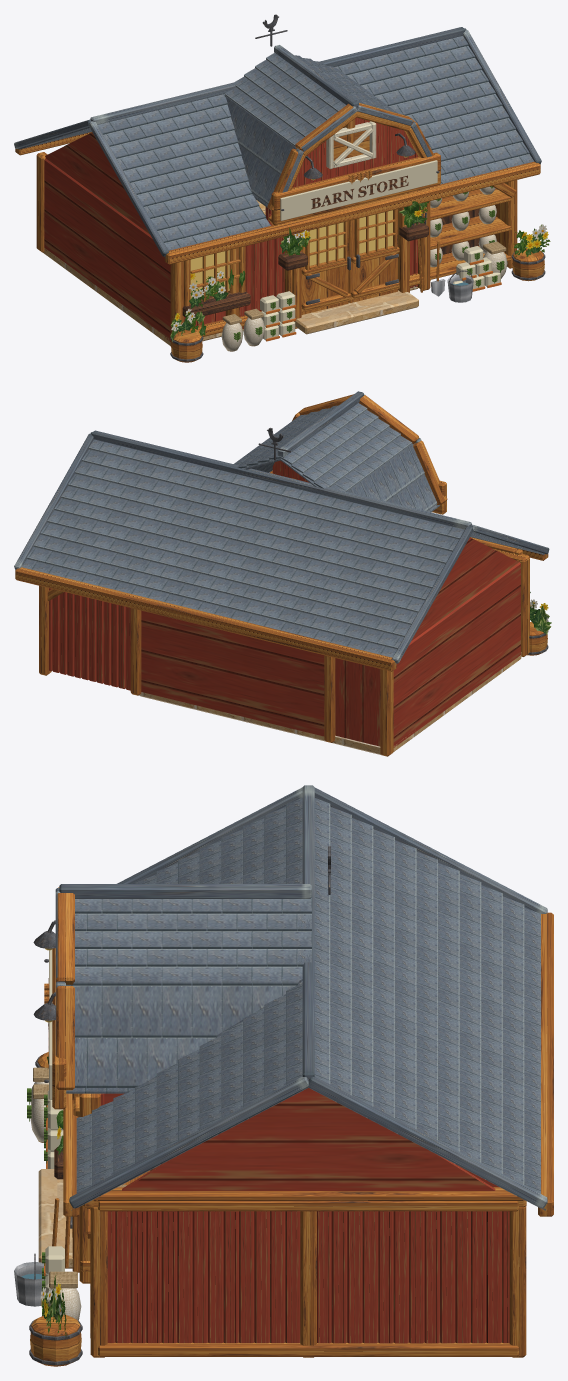
Rendered from BarnStore_Cozy_LOD0.fbx.
The picture shows the model from 3 angles, top to bottom: view 1: azimuth 30°, elevation 25°; view 2: azimuth 150°, elevation 25°; view 3: azimuth 270°, elevation 25°; orthographic projection. The views are drawn at different scales.
Parts seen in each view (by area): view 1: BarnStore_Cozy_LOD0; view 2: BarnStore_Cozy_LOD0; view 3: BarnStore_Cozy_LOD0.
Boxes of the visible parts, left/top/right/bottom form: BarnStore_Cozy_LOD0: left=14, top=14, right=550, bottom=362; BarnStore_Cozy_LOD0: left=14, top=391, right=551, bottom=756; BarnStore_Cozy_LOD0: left=14, top=785, right=553, bottom=1366.
Bounding box in the file's own units: 10.05 × 6.05 × 7.74.
